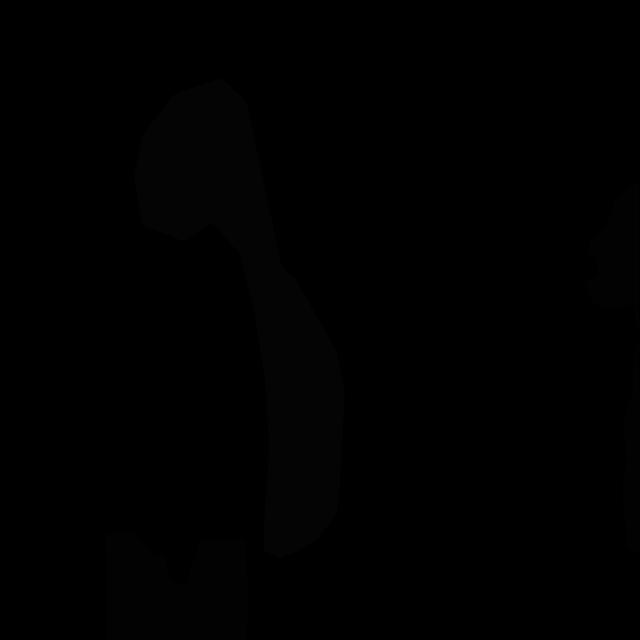cardboard: (584, 182, 640, 556), (105, 532, 248, 640)
soft_plastic: (134, 78, 345, 559)
